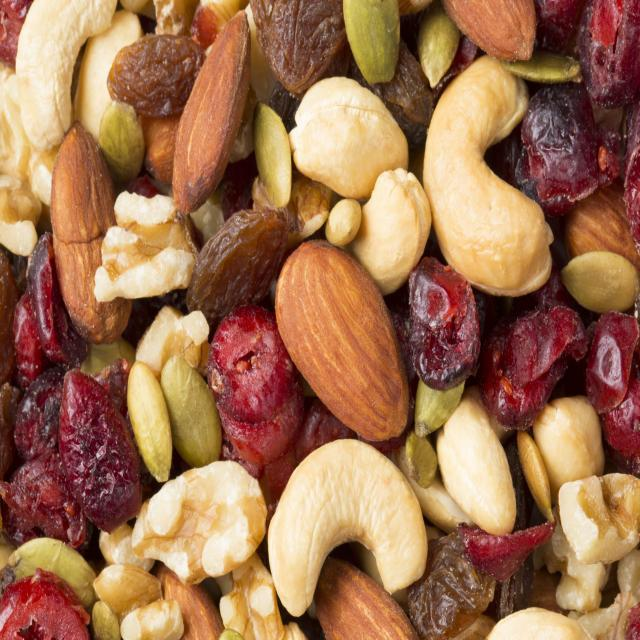Frutta secca: (4, 7, 628, 631)
